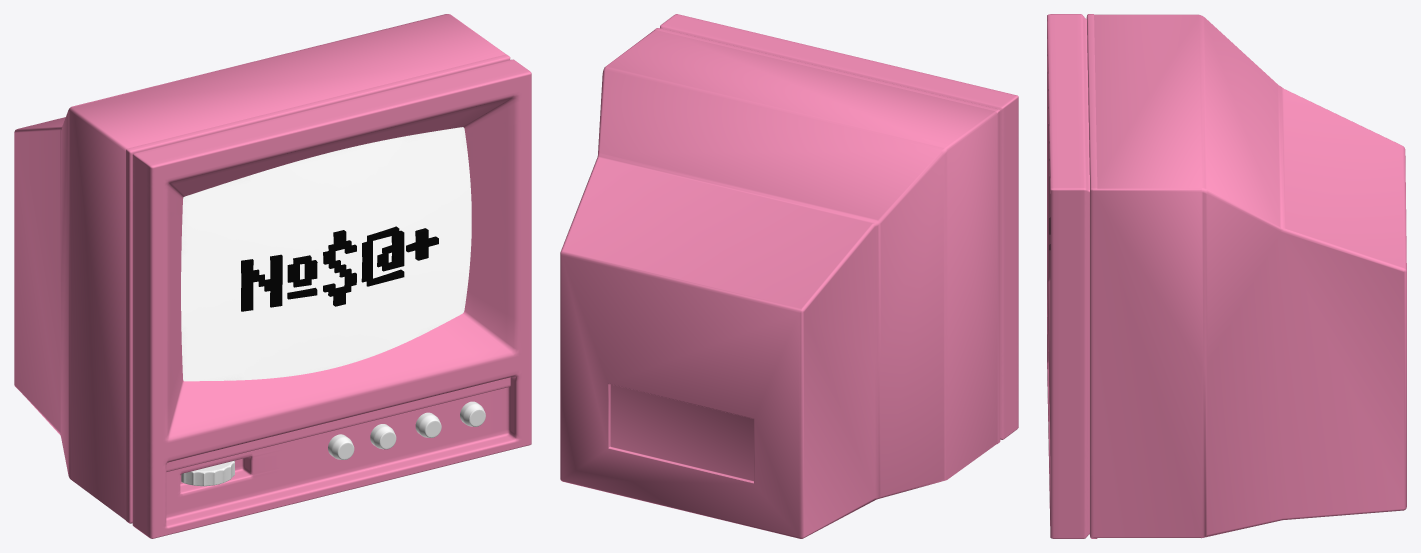
3 views of the same model, side by side, from view 1: azimuth 30°, elevation 25°; view 2: azimuth 150°, elevation 25°; view 3: azimuth 270°, elevation 25° (orthographic). The views are drawn at different scales.
Visible parts, largest first — view 1: Curve.003; view 2: Curve.003; view 3: Curve.003.
Part boxes in pixels (left/top/right/bottom): Curve.003: left=14, top=14, right=531, bottom=538; Curve.003: left=560, top=14, right=1018, bottom=538; Curve.003: left=1047, top=14, right=1406, bottom=538.
Size of the model in its own units: 32.25 by 29.97 by 27.91.
